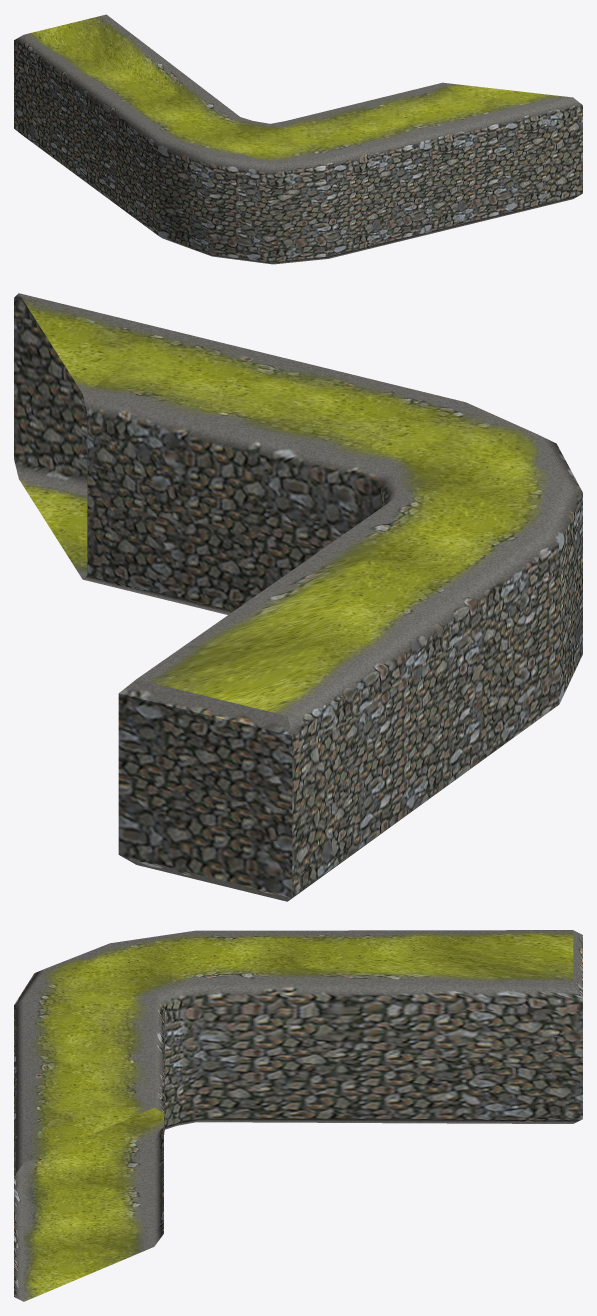
File: Temple_Wall_L-Shape_Half.fbx
The picture shows the model from 3 angles, top to bottom: view 1: azimuth 30°, elevation 25°; view 2: azimuth 150°, elevation 25°; view 3: azimuth 270°, elevation 25°; orthographic projection. The views are drawn at different scales.
Parts seen in each view (by area): view 1: pasted__L_Shape; view 2: pasted__L_Shape; view 3: pasted__L_Shape.
Boxes of the visible parts, x1,y1,x2,y2 form: pasted__L_Shape: [14, 14, 582, 264]; pasted__L_Shape: [14, 293, 582, 901]; pasted__L_Shape: [14, 930, 582, 1301].
Bounding box in the file's own units: 11.39 × 3.08 × 11.36.
